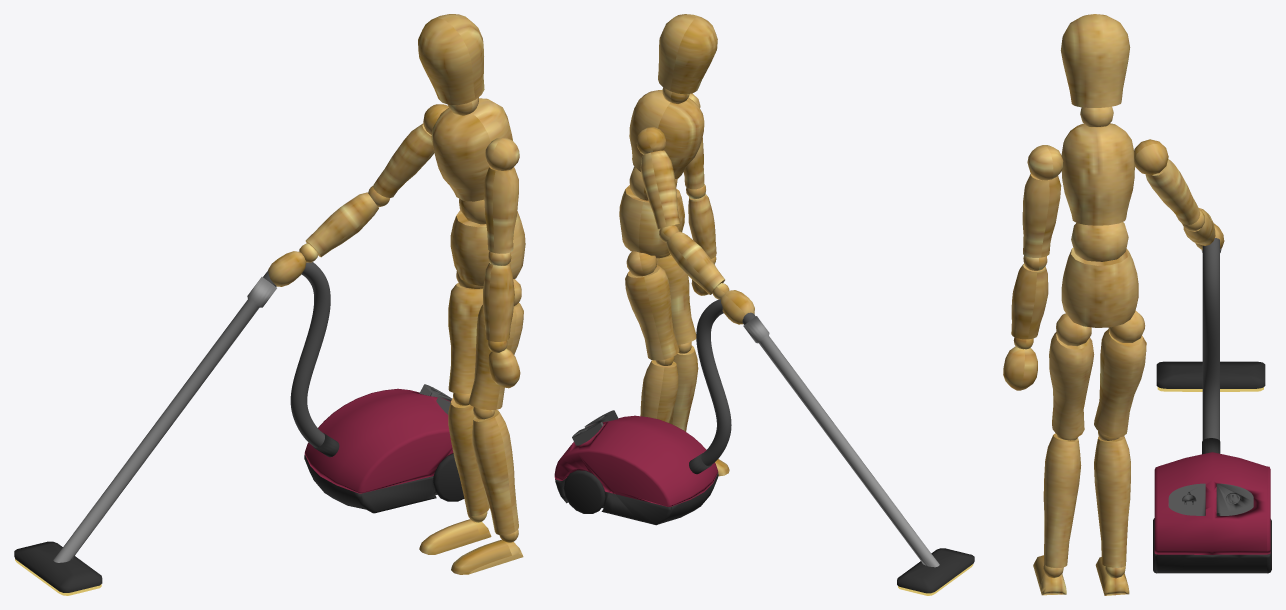
Rendered from human_cleaning.obj.
The picture shows the model from 3 angles, left to right: view 1: azimuth 30°, elevation 25°; view 2: azimuth 150°, elevation 25°; view 3: azimuth 270°, elevation 25°; orthographic projection. The views are drawn at different scales.
Parts seen in each view (by area): view 1: aspirateur, chest, head, lShin, lShldr, rThigh, hip, rShin, rShldr, lThigh, lForeArm, rForeArm (+4 smaller); view 2: aspirateur, chest, head, rThigh, rShldr, hip, rShin, rForeArm, lThigh, lShin, lForeArm, rHand (+1 smaller); view 3: aspirateur, chest, head, hip, rThigh, lThigh, rShin, lShin, lShldr, rShldr, lForeArm, lHand (+3 smaller).
Boxes of the visible parts, x1=… form: aspirateur: x1=14, y1=262, x2=464, y2=595; chest: x1=431, y1=98, x2=512, y2=224; head: x1=418, y1=14, x2=484, y2=115; lShin: x1=472, y1=407, x2=518, y2=535; lShldr: x1=484, y1=138, x2=519, y2=253; rThigh: x1=448, y1=271, x2=483, y2=393; hip: x1=450, y1=210, x2=525, y2=285; rShin: x1=448, y1=393, x2=489, y2=516; rShldr: x1=373, y1=104, x2=448, y2=197; lThigh: x1=468, y1=279, x2=523, y2=410; lForeArm: x1=483, y1=251, x2=514, y2=341; rForeArm: x1=305, y1=186, x2=389, y2=257; aspirateur: x1=554, y1=299, x2=974, y2=595; chest: x1=629, y1=90, x2=704, y2=200; head: x1=658, y1=14, x2=717, y2=103; rThigh: x1=625, y1=251, x2=679, y2=360; rShldr: x1=636, y1=127, x2=680, y2=229; hip: x1=619, y1=185, x2=684, y2=255; rShin: x1=640, y1=356, x2=678, y2=423; rForeArm: x1=659, y1=225, x2=724, y2=294; lThigh: x1=655, y1=253, x2=696, y2=344; lShin: x1=670, y1=342, x2=698, y2=431; lForeArm: x1=686, y1=184, x2=716, y2=258; rHand: x1=712, y1=283, x2=754, y2=324; aspirateur: x1=1153, y1=238, x2=1271, y2=573; chest: x1=1061, y1=123, x2=1134, y2=261; head: x1=1060, y1=14, x2=1130, y2=126; hip: x1=1061, y1=248, x2=1138, y2=327; rThigh: x1=1094, y1=310, x2=1146, y2=437; lThigh: x1=1049, y1=313, x2=1094, y2=438; rShin: x1=1094, y1=431, x2=1130, y2=567; lShin: x1=1043, y1=433, x2=1081, y2=567; lShldr: x1=1022, y1=145, x2=1063, y2=257; rShldr: x1=1134, y1=139, x2=1200, y2=224; lForeArm: x1=1011, y1=255, x2=1048, y2=339; lHand: x1=1003, y1=337, x2=1037, y2=390.
Size of the model in its own units: 0.5747 by 0.6812 by 0.2984.
Materials: 7 (2 with a texture image).
